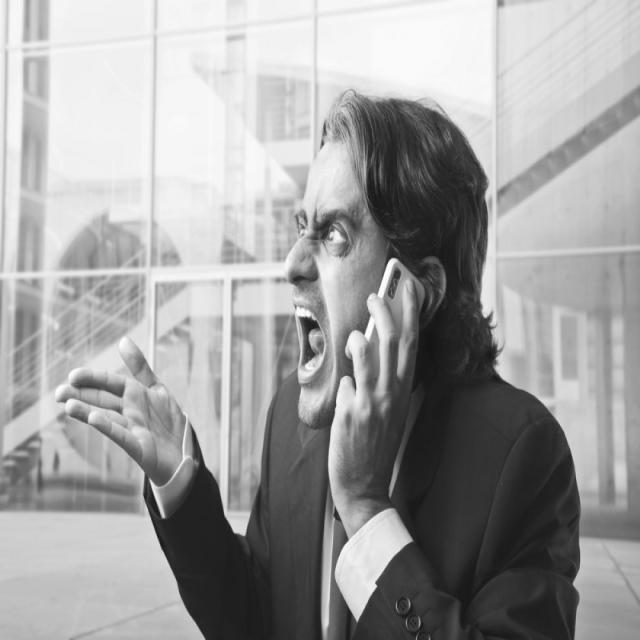phone: (319, 188, 446, 508)
